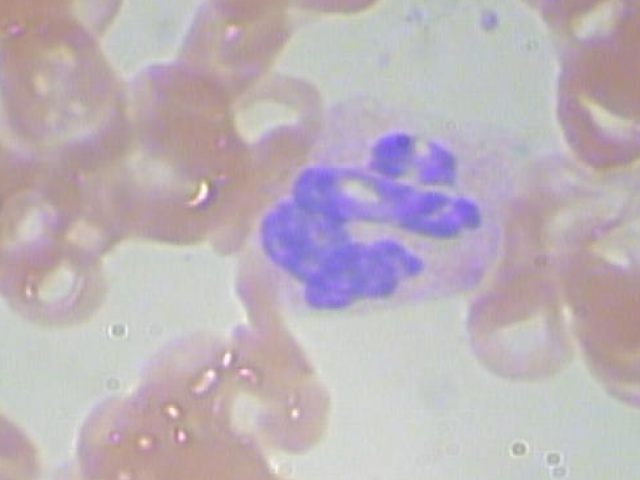Platelets: (461, 0, 510, 35)
RBC: (0, 15, 138, 160), (540, 35, 640, 176), (457, 273, 578, 388), (163, 0, 299, 95), (0, 227, 110, 328), (60, 384, 164, 480), (568, 276, 640, 385), (572, 314, 640, 415), (0, 369, 45, 480), (481, 0, 626, 13), (0, 71, 8, 172)
WBC: (250, 97, 533, 323)
